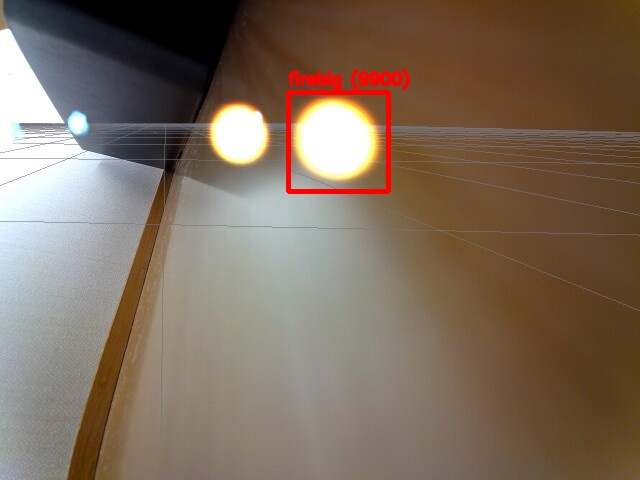firebig: (288, 92, 388, 191)
